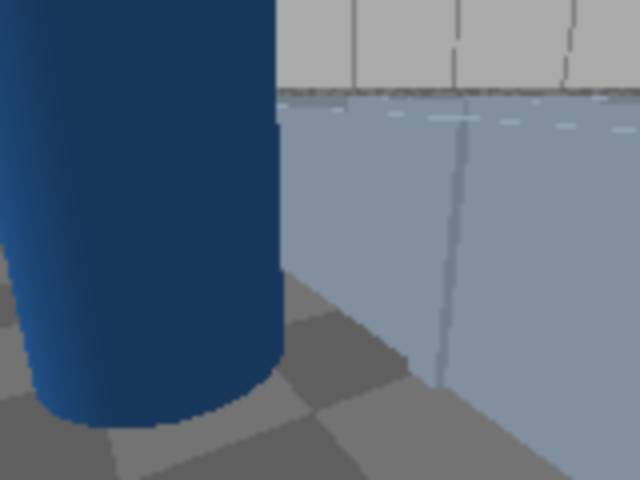person: (0, 0, 274, 415)
